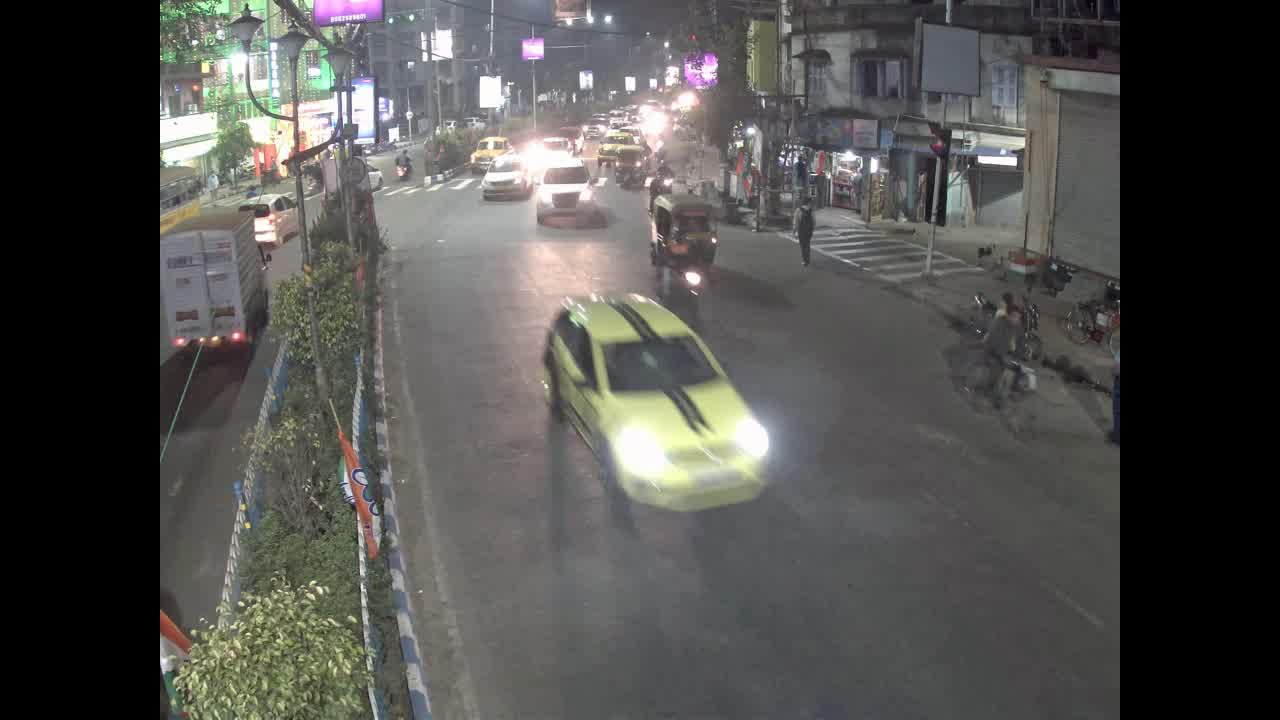auto-rickshaw: (652, 190, 716, 270), (617, 152, 648, 190)
bike: (639, 270, 723, 330)
car: (545, 297, 769, 493), (241, 195, 315, 249), (535, 161, 597, 225), (485, 150, 528, 199)
person: (982, 289, 1027, 382), (659, 232, 698, 283)
